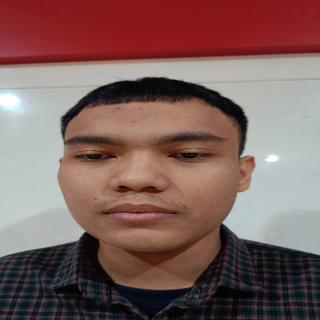Sedih: (54, 95, 258, 259)
